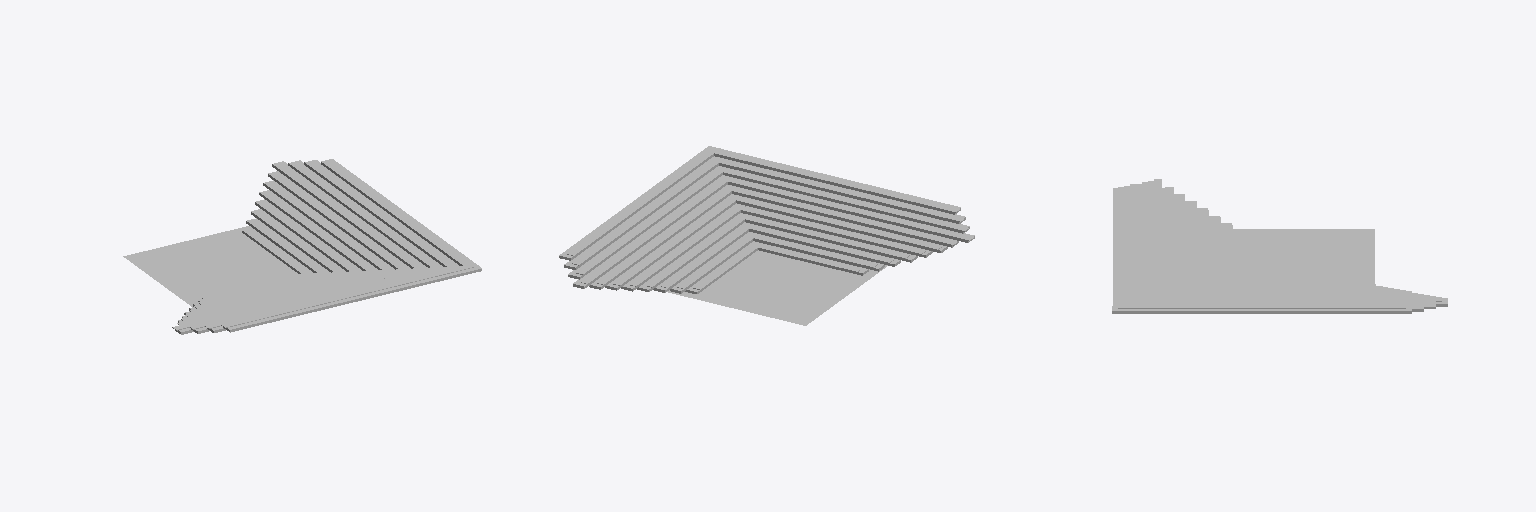
The model's file is seki.obj.
The picture shows the model from 3 angles: view 1: azimuth 30°, elevation 25°; view 2: azimuth 150°, elevation 25°; view 3: azimuth 270°, elevation 25°; orthographic projection.
Visible parts, largest first — view 1: 平面; view 2: 平面; view 3: 平面.
Boxes of the visible parts, x1,y1,x2,y2 form: 平面: [123, 159, 481, 334]; 平面: [559, 146, 974, 325]; 平面: [1112, 179, 1447, 313].
Size of the model in its own units: 112 by 11.03 by 114.